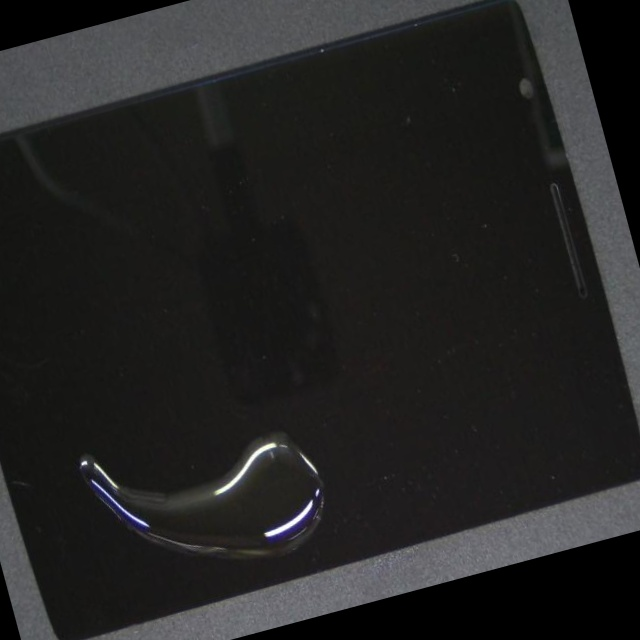oil: (132, 180, 412, 637)
